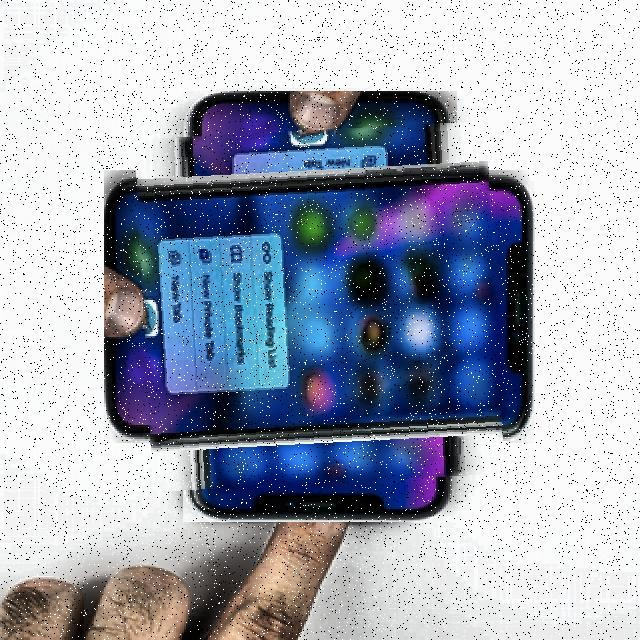Phone: (140, 126, 500, 487)
